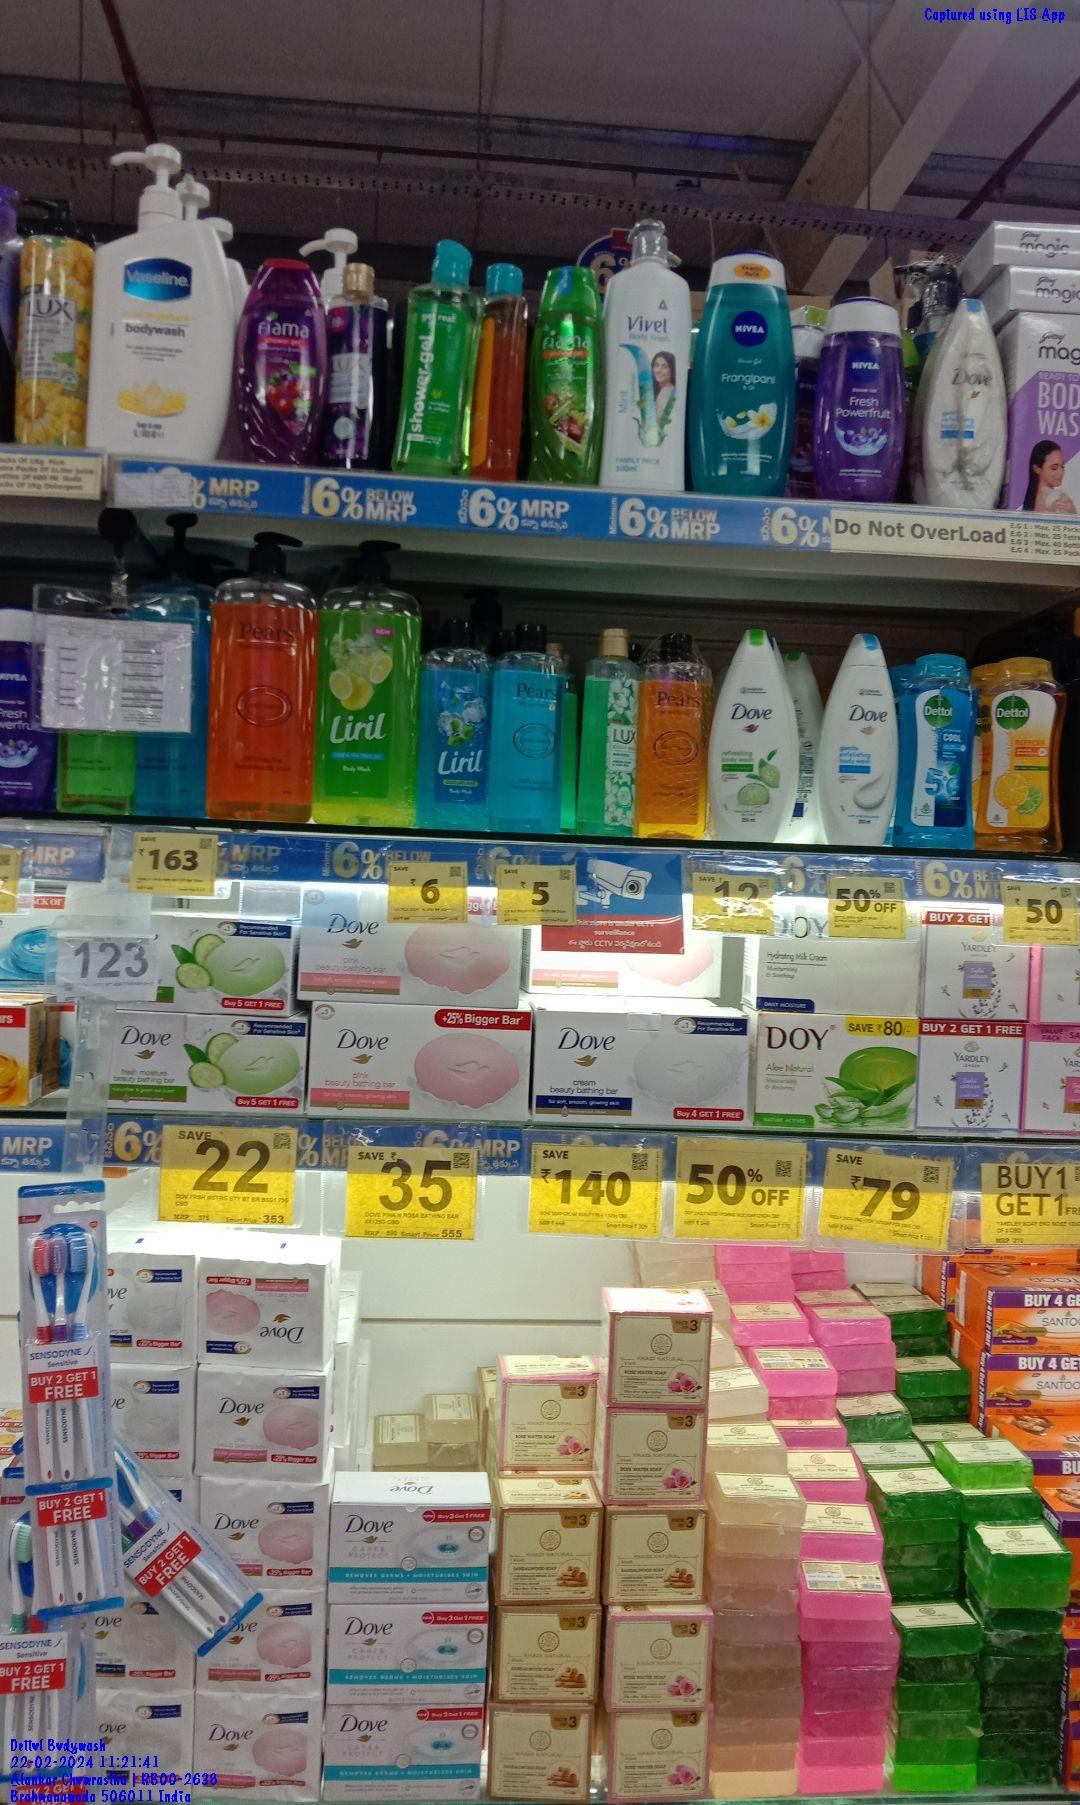Dettol_Bodywash_Cool: (903, 651, 968, 850)
Dettol_Bodywash_Refresh: (982, 652, 1062, 852)
Dove_Gentle_Exfoliating_Body_Wash_250ML: (815, 636, 897, 847)
Dove_Refreshing_Body_Wash_250ML: (705, 631, 797, 840)
Liril_Cooling_Mint_Body_Wash_250ML: (419, 624, 485, 827)
Lux_Black_Orchid_Scent_and_Juniper_Oil_Body_Wash_245ML: (325, 262, 382, 468)
Lux_Body_Wash_Skin_Detox_Freesia_Scent_and_Alove_Vera_245ML: (577, 620, 636, 837)
Nivea_Shower_Gel_Frangipani_and_Oil_250ML: (693, 243, 801, 495)
Nivea_Shower_Gel_Fresh_Powerfruit_250ML: (815, 296, 904, 503)
Pears_Pure_Glycerin_and_Mint_Extracts_Body_Wash_250ML: (492, 624, 562, 832)
